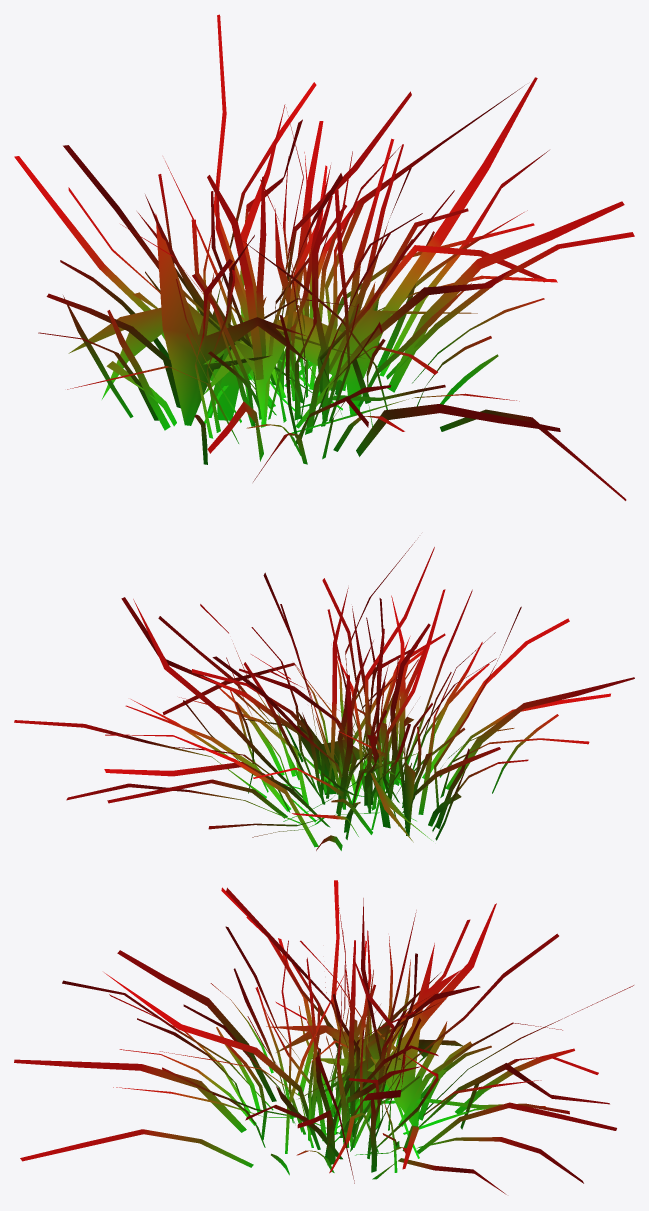
The model's file is Tundra Grass_LOD2_Var22_wk2oaeyqx.fbx.
3 views of the same model, one above another, from view 1: azimuth 30°, elevation 25°; view 2: azimuth 150°, elevation 25°; view 3: azimuth 270°, elevation 25° (orthographic). The views are drawn at different scales.
Parts seen in each view (by area): view 1: _6mvr_Var22_LOD2; view 2: _6mvr_Var22_LOD2; view 3: _6mvr_Var22_LOD2.
Part boxes in pixels (x1,y1,x2,y2): _6mvr_Var22_LOD2: (14,14,634,500); _6mvr_Var22_LOD2: (14,537,634,850); _6mvr_Var22_LOD2: (14,880,633,1194).
Size of the model in its own units: 34.3 by 16.24 by 37.04.
